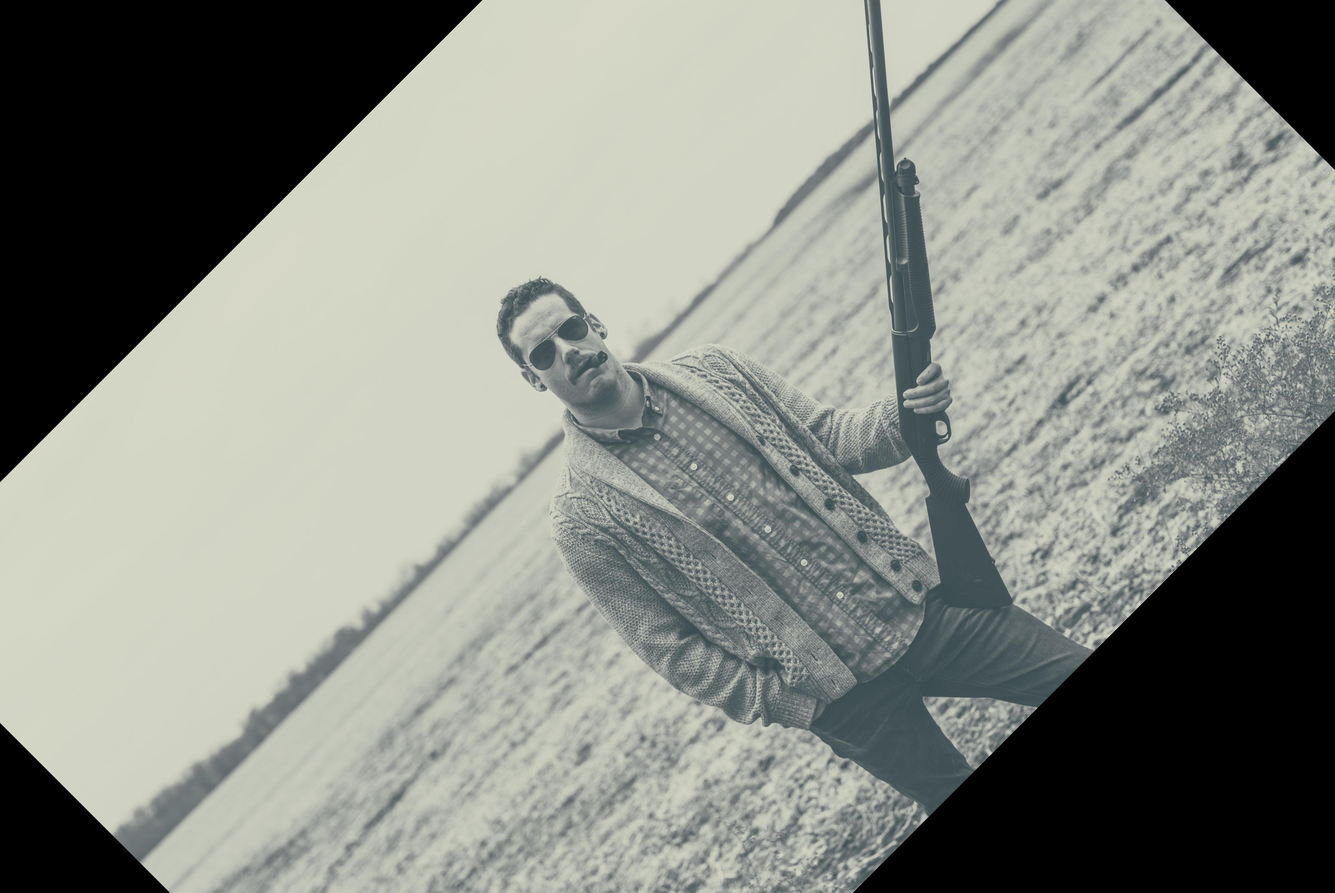larga: (863, 0, 1016, 609)
